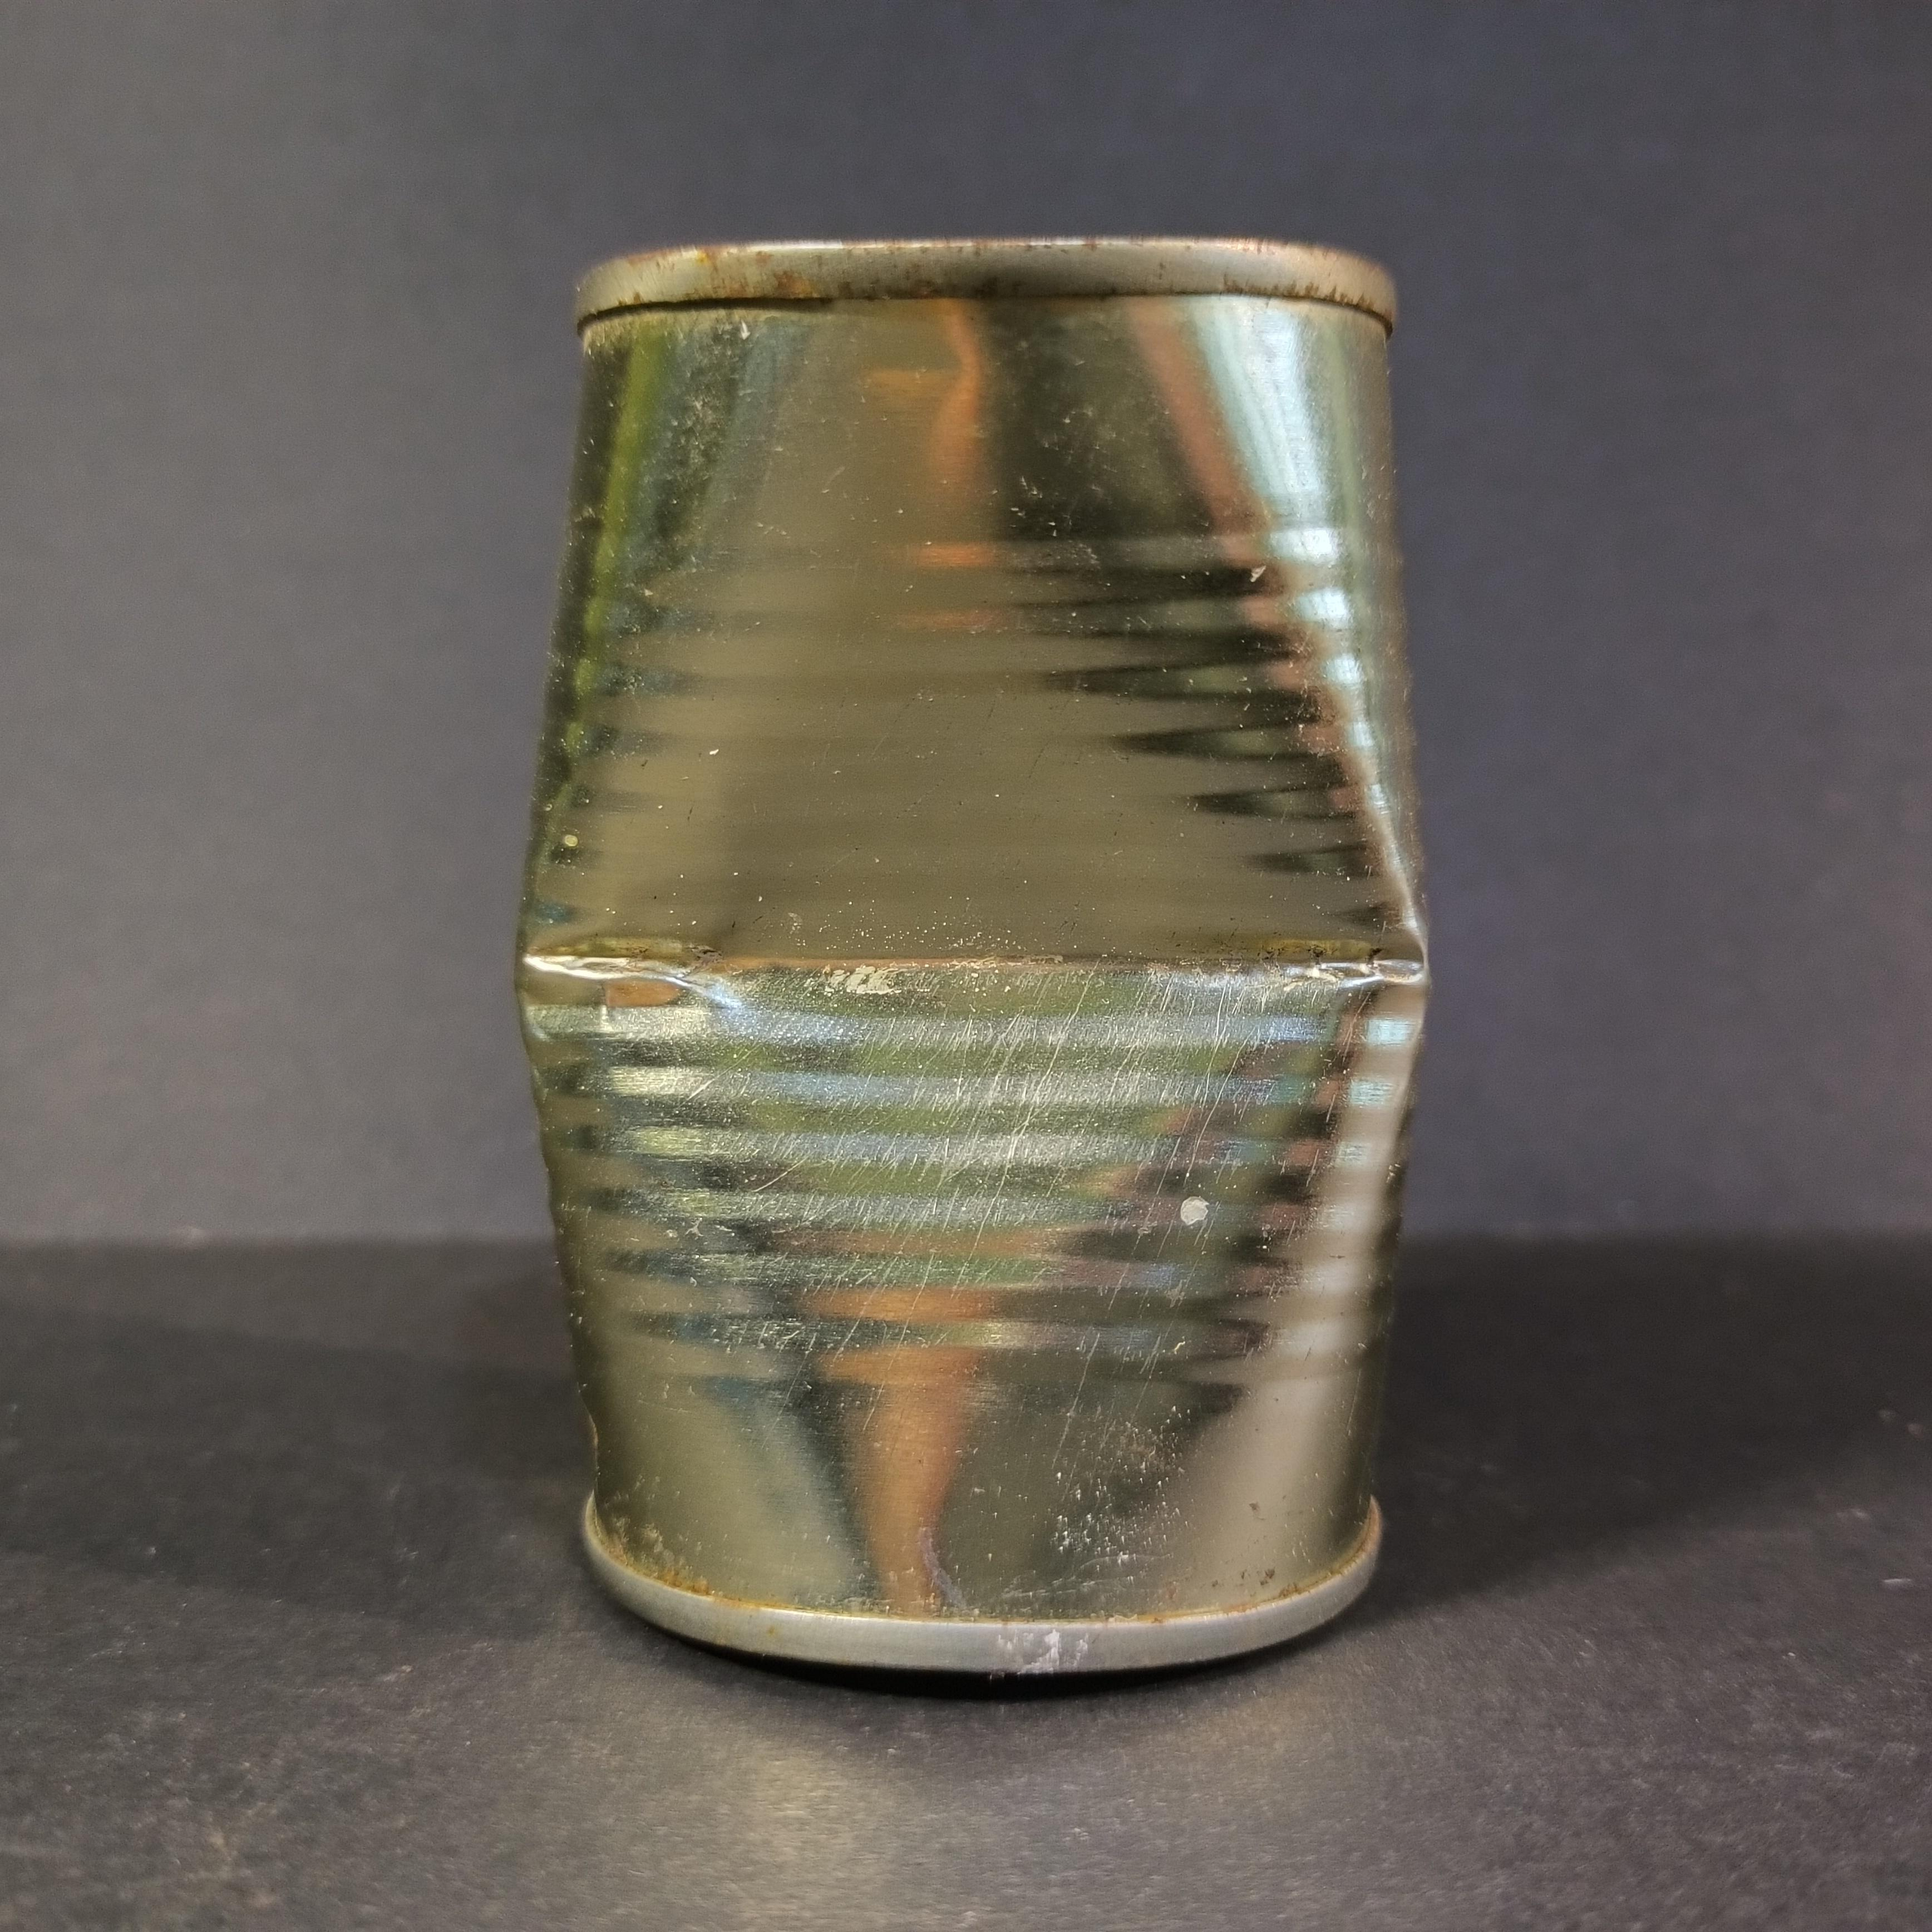Dented: (458, 203, 1488, 1690)
